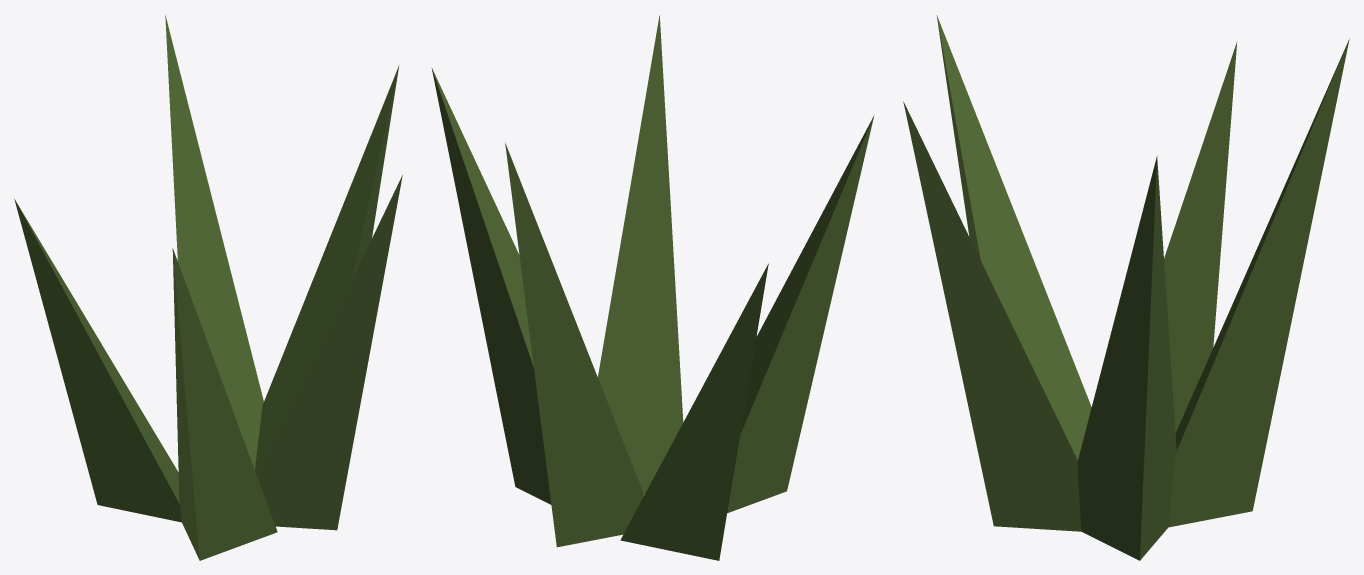
The model's file is grass_tuft.glb.
The picture shows the model from 3 angles, left to right: view 1: azimuth 30°, elevation 25°; view 2: azimuth 150°, elevation 25°; view 3: azimuth 270°, elevation 25°; orthographic projection. The views are drawn at different scales.
Visible parts, largest first — view 1: blade.004, blade.002, blade.003, blade.001, blade; view 2: blade.004, blade.001, blade.003, blade.002, blade; view 3: blade.001, blade.004, blade, blade.003, blade.002.
Boxes of the visible parts, x1,y1,x2,y2 form: blade.004: [257, 175, 402, 530]; blade.002: [14, 199, 181, 522]; blade.003: [172, 248, 277, 560]; blade.001: [165, 15, 263, 469]; blade: [255, 65, 399, 476]; blade.004: [598, 15, 683, 494]; blade.001: [505, 142, 644, 547]; blade.003: [727, 115, 874, 512]; blade.002: [620, 263, 768, 560]; blade: [431, 68, 551, 504]; blade.001: [1168, 38, 1349, 527]; blade.004: [903, 101, 1081, 531]; blade: [1077, 155, 1176, 560]; blade.003: [936, 15, 1091, 460]; blade.002: [1164, 41, 1237, 432].
Size of the model in its own units: 6.78 by 7.56 by 6.41.
